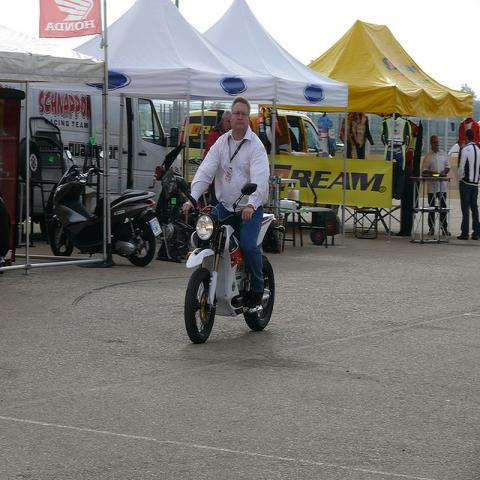motorcycle: (178, 184, 283, 343), (51, 150, 163, 269), (147, 140, 190, 260)
truck: (30, 82, 174, 202), (181, 110, 321, 184)
